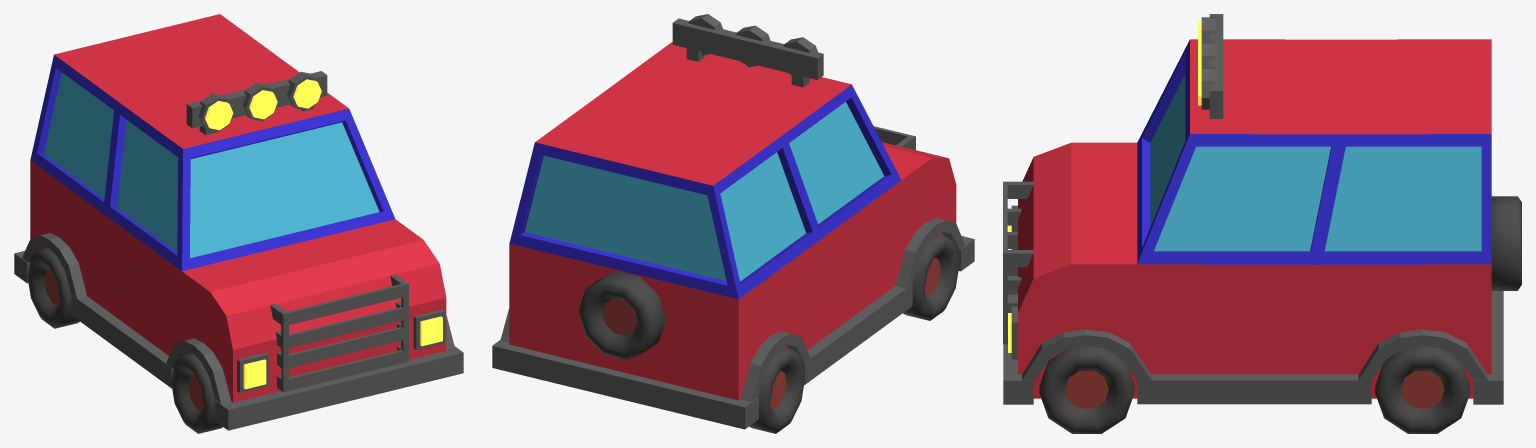
Rendered from Jeep.fbx.
3 views of the same model, side by side, from view 1: azimuth 30°, elevation 25°; view 2: azimuth 150°, elevation 25°; view 3: azimuth 270°, elevation 25° (orthographic). The views are drawn at different scales.
Visible parts, largest first — view 1: Jeep, wheels_3, wheels_4; view 2: Jeep, wheels_3, wheels_4; view 3: Jeep, wheels_4, wheels_3.
Boxes of the visible parts, box(x1,y1,x2,y2) form: Jeep: box(14, 14, 463, 430); wheels_3: box(171, 353, 222, 433); wheels_4: box(27, 248, 79, 328); Jeep: box(492, 14, 974, 429); wheels_3: box(903, 234, 959, 320); wheels_4: box(749, 347, 804, 433); Jeep: box(1003, 14, 1521, 404); wheels_4: box(1375, 345, 1470, 433); wheels_3: box(1039, 345, 1134, 433).
Size of the model in its own units: 65.54 by 71.58 by 104.
